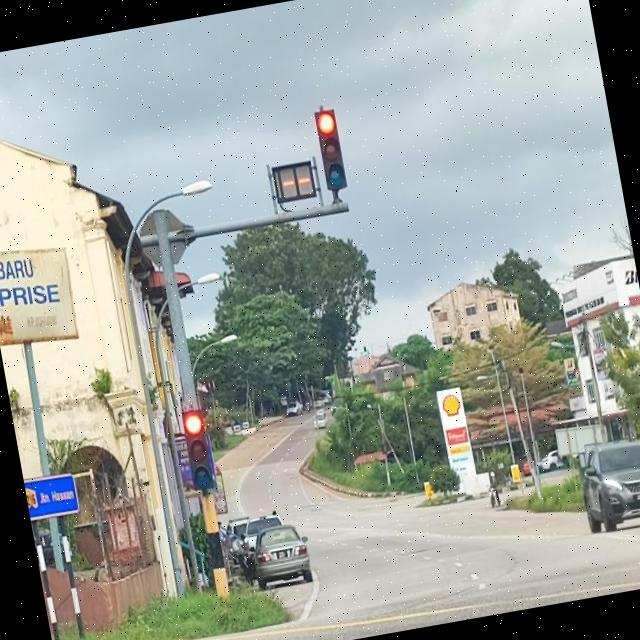red_light: (178, 405, 215, 493), (312, 108, 348, 191)
